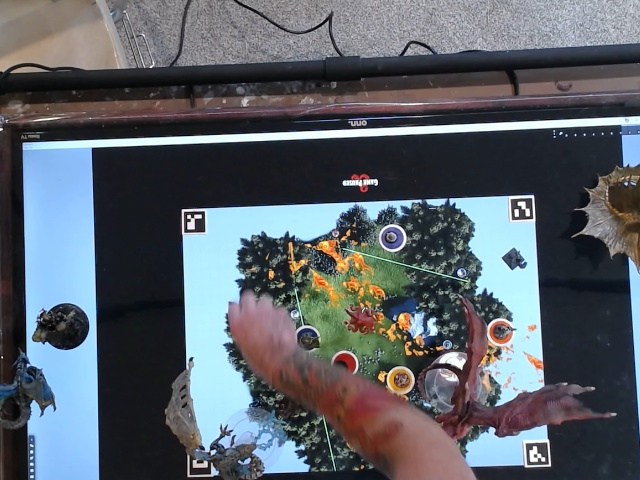blue: (288, 319, 322, 354)
orange: (484, 314, 520, 351)
red: (326, 348, 363, 378)
violet: (376, 222, 409, 256)
yellow: (380, 363, 418, 397)
